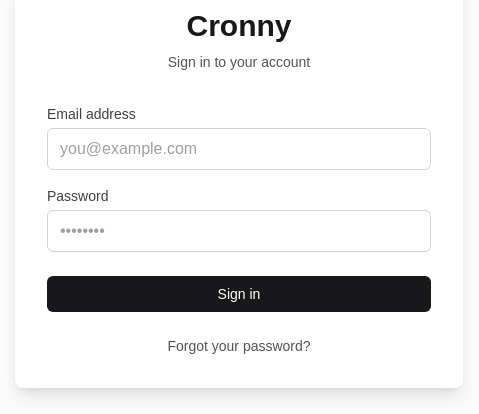
Test: LoginPage › should show loading state during login
Type "test@example.com" into the field labelled "Email address" at (239, 149), box [47, 128, 431, 170]
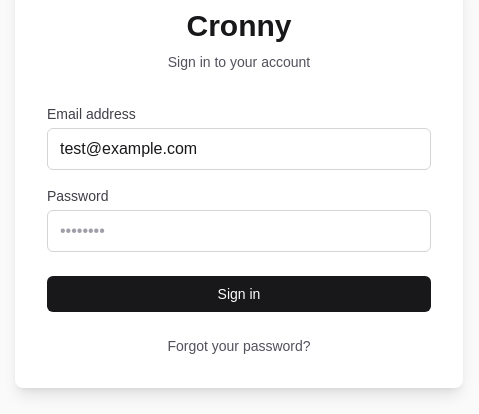
Type "password123" into the password field labelled "Password" at (239, 231), box [47, 210, 431, 252]
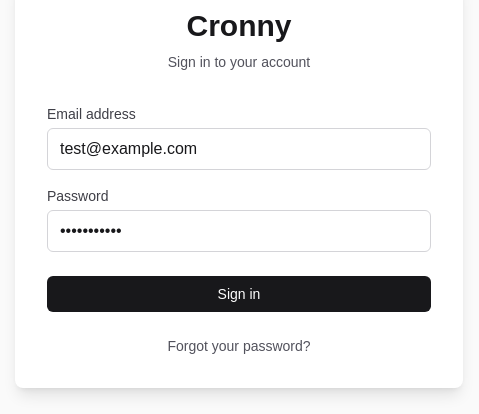
Click the button "Sign in" at (239, 294), box [47, 276, 431, 312]
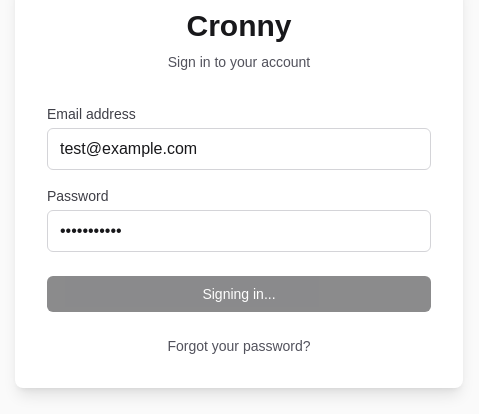
Now the button "Signing in..." is disabled, box [47, 276, 431, 312]
